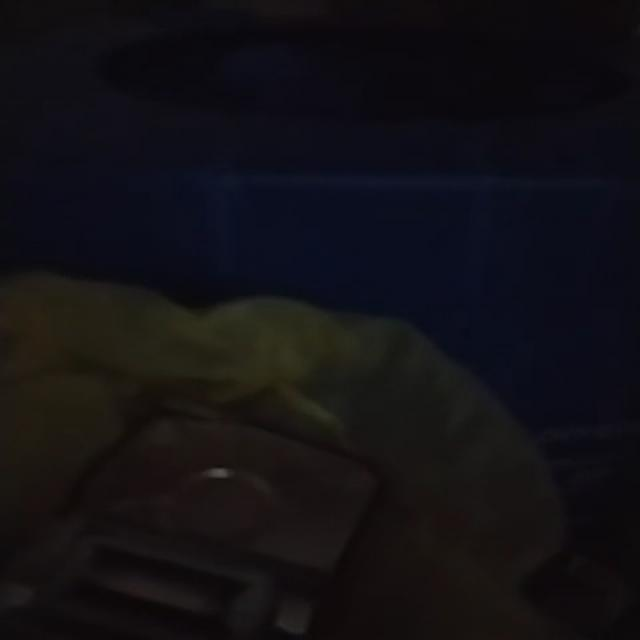bin: (2, 0, 640, 640)
metal: (3, 410, 379, 640)
